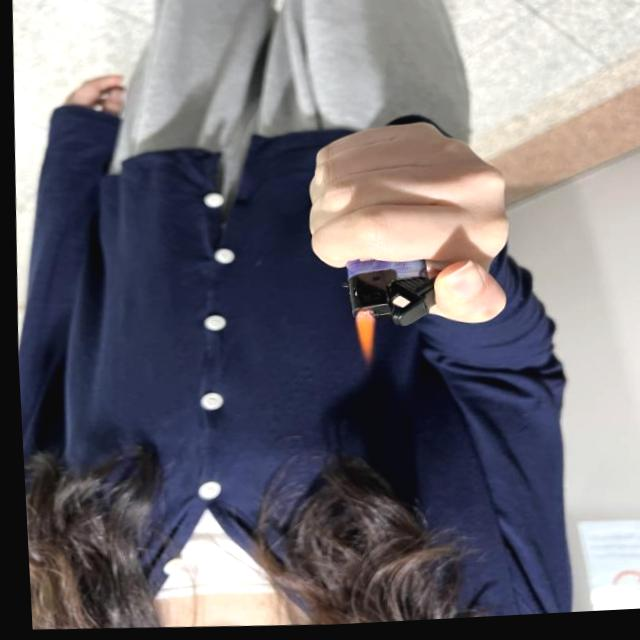helmet: (345, 311, 375, 363)
